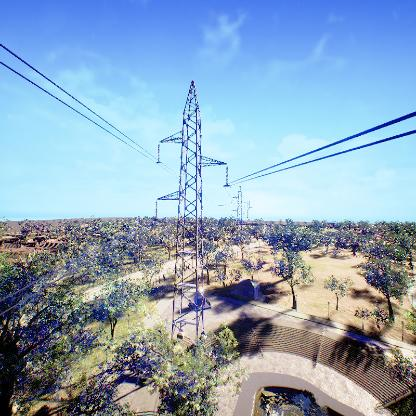tower: (151, 82, 233, 372)
